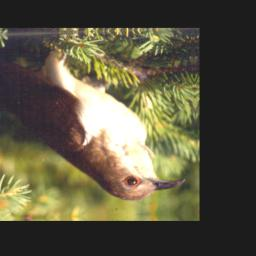Cuckoo: (0, 43, 187, 208)
